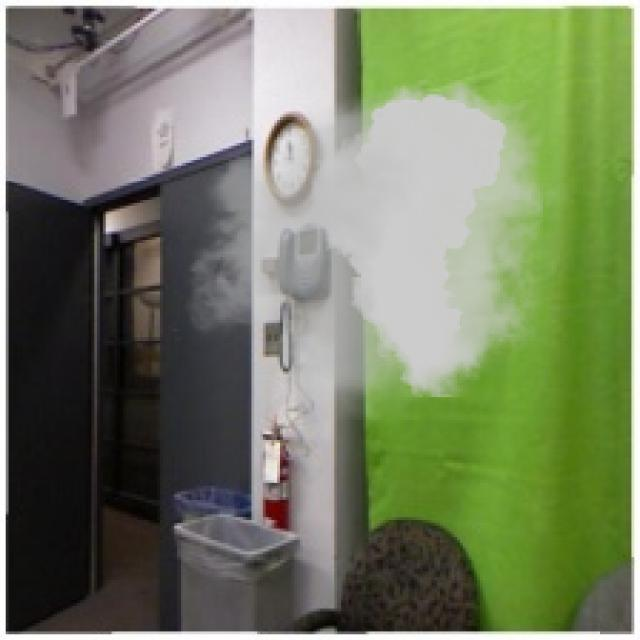smoke: (166, 71, 574, 420)
